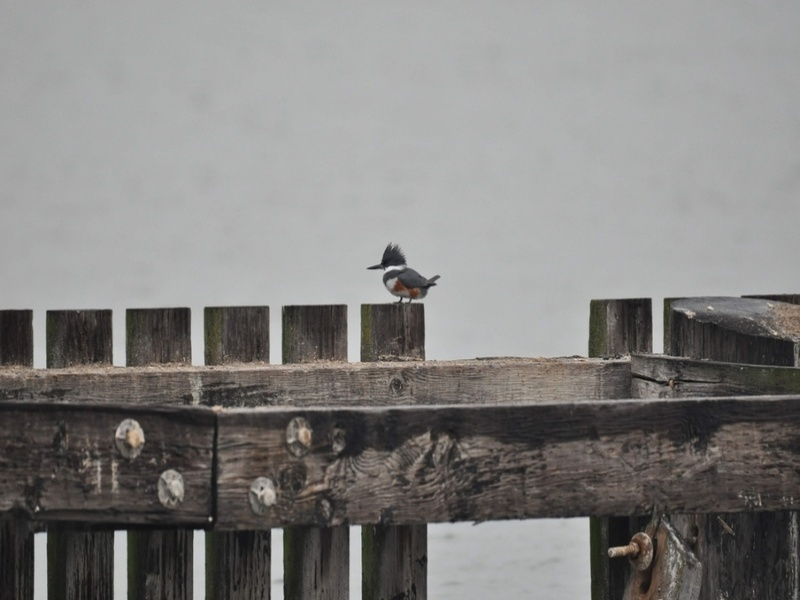kingfisher: (366, 239, 441, 309)
